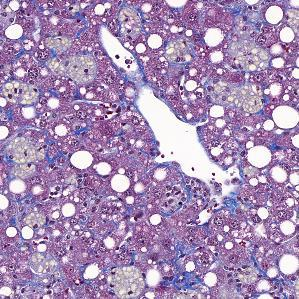fibrosis: (164, 176, 242, 223), (60, 76, 137, 116)
